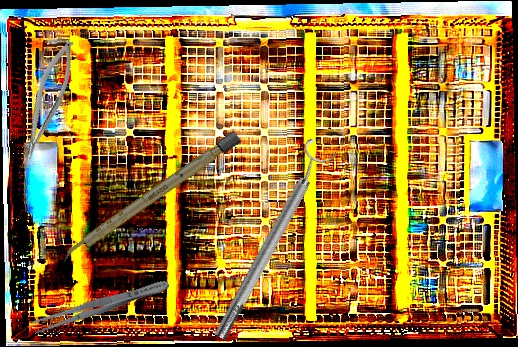Dressing Forceps: (30, 275, 172, 337)
Fixation Ring: (202, 136, 340, 346)
Needle Holder: (9, 36, 84, 169)
Scalpel Handle: (58, 129, 243, 265)
